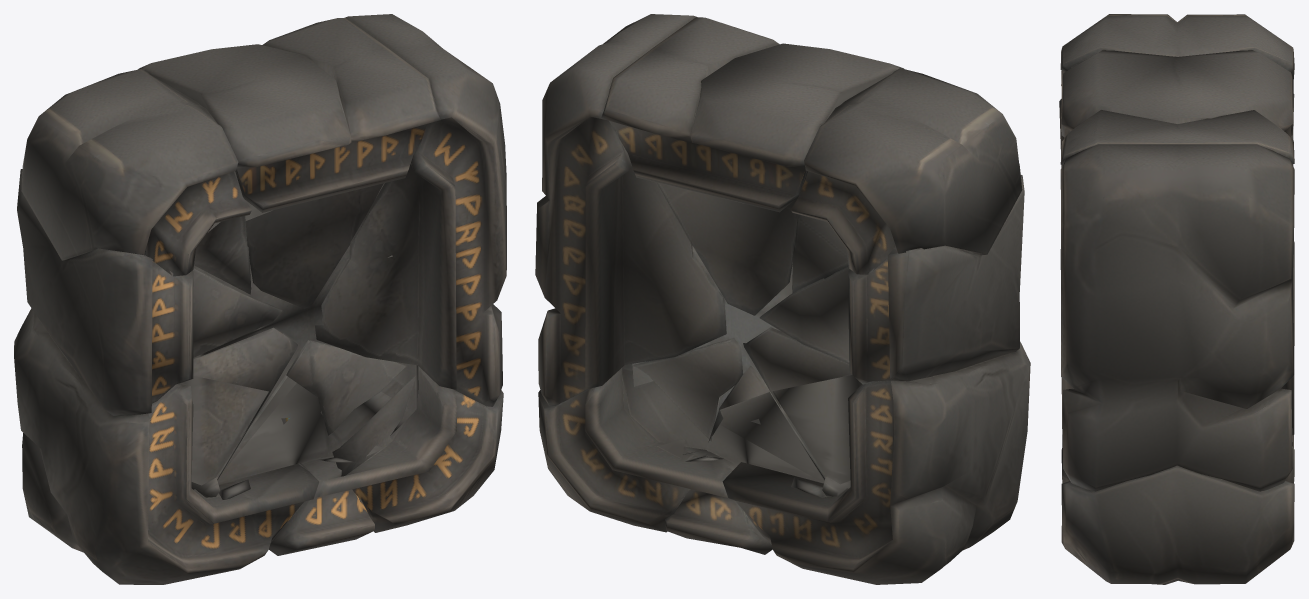
The model's file is StoneTile_Wrong.glb.
The picture shows the model from 3 angles, left to right: view 1: azimuth 30°, elevation 25°; view 2: azimuth 150°, elevation 25°; view 3: azimuth 270°, elevation 25°; orthographic projection. The views are drawn at different scales.
Visible parts, largest first — view 1: mesh_node; view 2: mesh_node; view 3: mesh_node.
Part boxes in pixels (x1,y1,x2,y2): mesh_node: [14, 14, 506, 584]; mesh_node: [535, 14, 1030, 584]; mesh_node: [1059, 14, 1294, 584].
Size of the model in its own units: 0.9688 by 1 by 0.501.
1 material, 1 textured.
